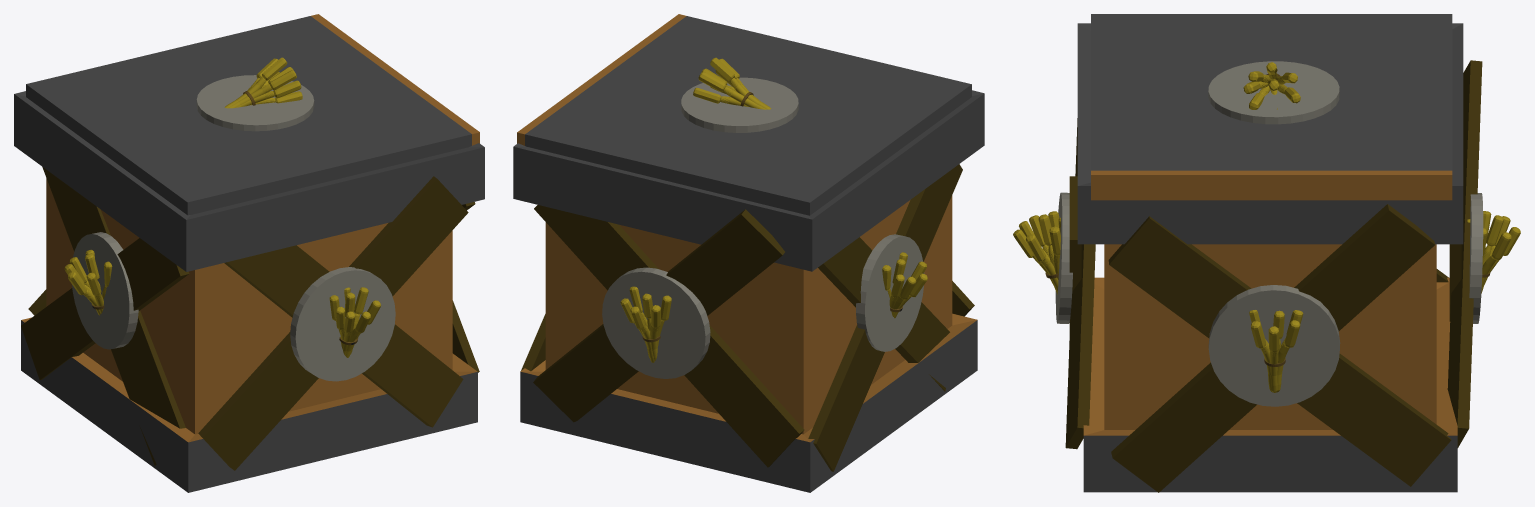
File: crate_wheat_full.fbx
3 renders of one model, left to right at view 1: azimuth 30°, elevation 25°; view 2: azimuth 150°, elevation 25°; view 3: azimuth 270°, elevation 25°, orthographic. The views are drawn at different scales.
Parts seen in each view (by area): view 1: Crate, Lid, Cube.004, Cube.003, Cylinder.001, Cube.005, Cube.006, Cylinder.003, Cylinder.004, Cube.007, Barley.038; view 2: Crate, Lid, Cube.001, Cube.002, Cylinder, Cube.005, Cylinder.003, Cylinder.004, Cube.006, Cube.008, Barley.036, Barley.037; view 3: Crate, Lid, Cube.008, Cube.007, Cylinder.002, Cube.002, Cylinder.004, Cube.003, Cylinder.001, Cylinder, Cube.004, Cube.001 (+2 smaller).
Part boxes in pixels (x1=…): Crate: x1=14, y1=91, x2=484, y2=492; Lid: x1=26, y1=14, x2=479, y2=215; Cube.004: x1=198, y1=176, x2=468, y2=470; Cube.003: x1=224, y1=245, x2=463, y2=427; Cylinder.001: x1=290, y1=267, x2=395, y2=381; Cube.005: x1=21, y1=238, x2=189, y2=379; Cube.006: x1=42, y1=167, x2=185, y2=465; Cylinder.003: x1=72, y1=232, x2=138, y2=349; Cylinder.004: x1=196, y1=75, x2=314, y2=131; Cube.007: x1=452, y1=300, x2=479, y2=372; Barley.038: x1=228, y1=70, x2=296, y2=108; Crate: x1=513, y1=90, x2=984, y2=492; Lid: x1=517, y1=14, x2=971, y2=215; Cube.001: x1=534, y1=205, x2=804, y2=467; Cube.002: x1=533, y1=209, x2=784, y2=422; Cylinder: x1=602, y1=267, x2=710, y2=378; Cube.005: x1=808, y1=164, x2=962, y2=471; Cylinder.003: x1=856, y1=234, x2=924, y2=351; Cylinder.004: x1=681, y1=77, x2=798, y2=132; Cube.006: x1=818, y1=237, x2=949, y2=391; Cube.008: x1=521, y1=314, x2=545, y2=371; Barley.036: x1=698, y1=72, x2=766, y2=109; Barley.037: x1=710, y1=57, x2=771, y2=109; Crate: x1=1077, y1=23, x2=1463, y2=492; Lid: x1=1091, y1=14, x2=1452, y2=200; Cube.008: x1=1108, y1=216, x2=1451, y2=486; Cube.007: x1=1111, y1=204, x2=1434, y2=492; Cylinder.002: x1=1208, y1=285, x2=1340, y2=406; Cube.002: x1=1447, y1=60, x2=1482, y2=447; Cylinder.004: x1=1208, y1=61, x2=1339, y2=124; Cube.003: x1=1065, y1=118, x2=1095, y2=449; Cylinder.001: x1=1055, y1=192, x2=1072, y2=323; Cylinder: x1=1469, y1=193, x2=1483, y2=323; Cube.004: x1=1069, y1=176, x2=1081, y2=330; Cube.001: x1=1449, y1=244, x2=1461, y2=321.
Size of the model in its own units: 979 by 822 by 1025.
